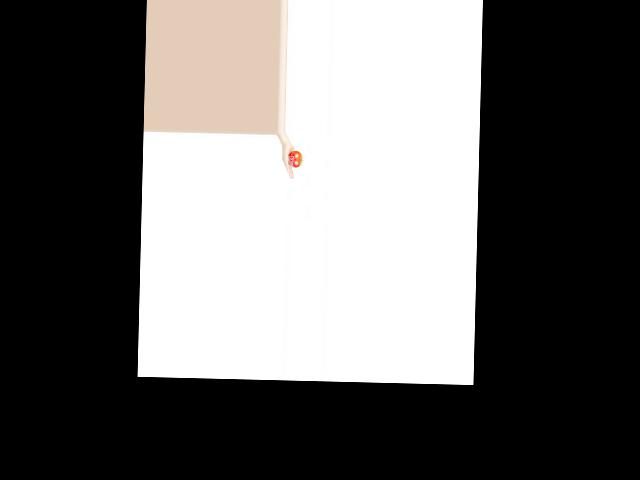tomato: (287, 150, 302, 167)
